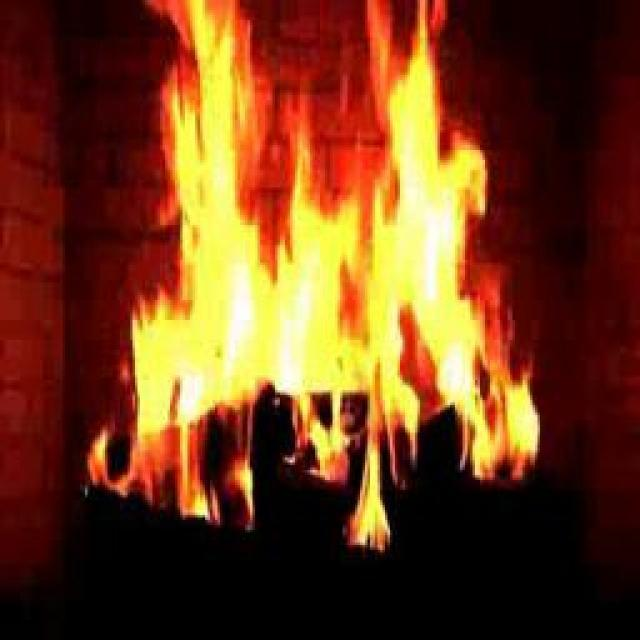Fire: (147, 41, 531, 459)
